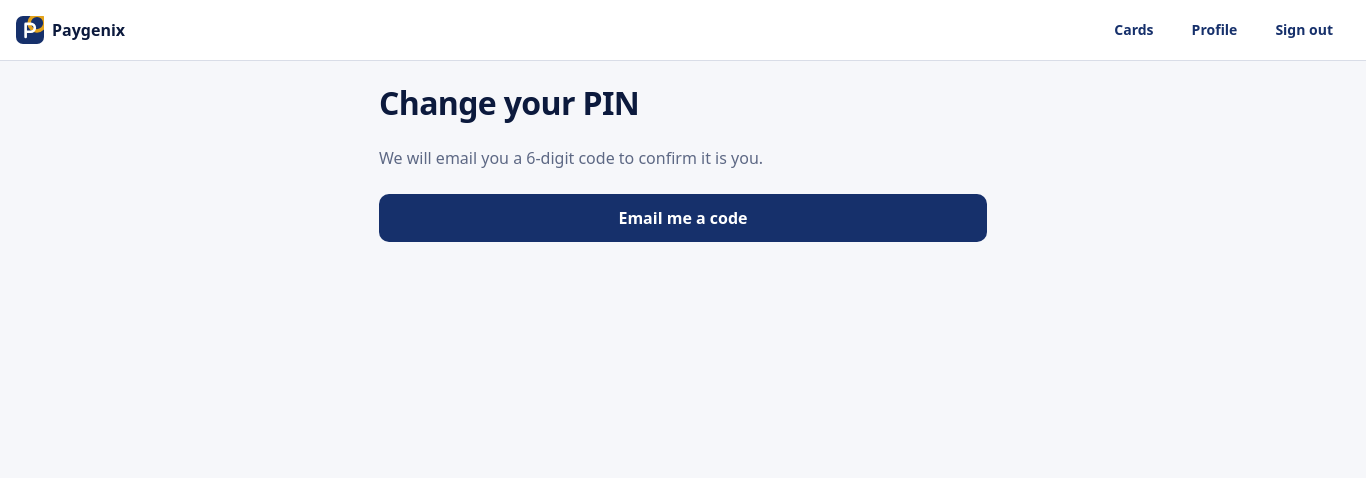
Scenario: a wrong code stays on the code step
This screenshot has width=1366, height=478.
Click the button "Email me a code". click: (683, 218)
box: [379,194,987,242]
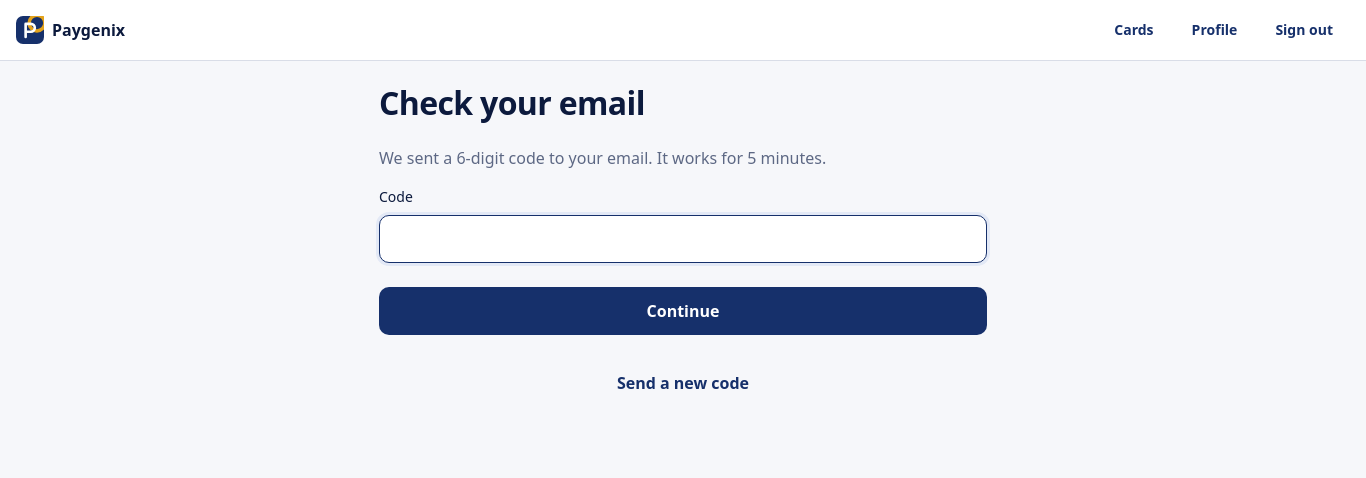
Type "123 456" into the field labelled "Code". click: (683, 239)
box: [380,216,986,262]
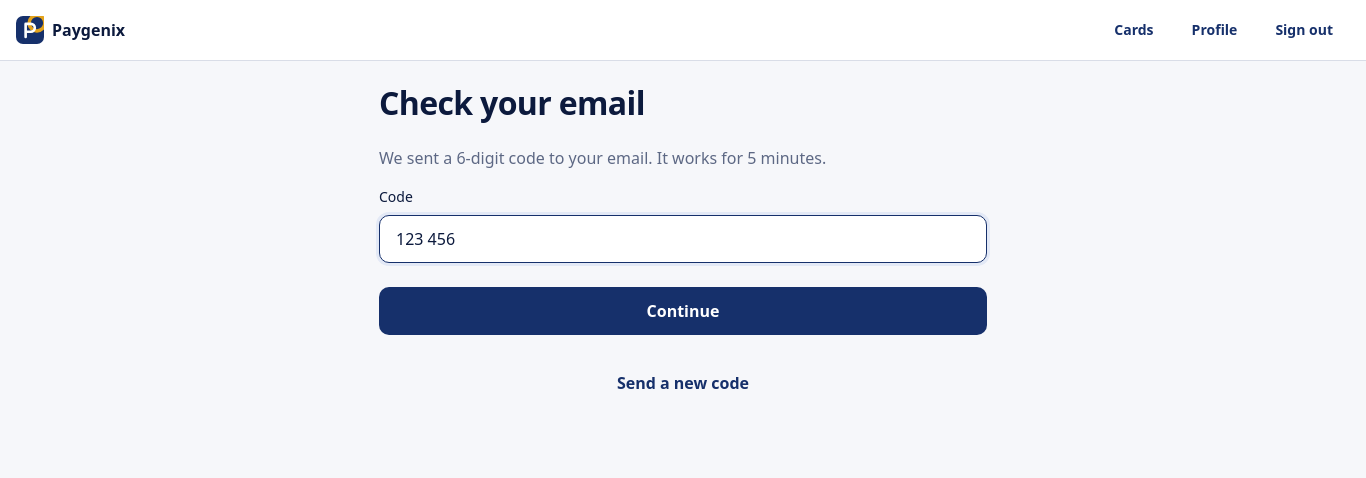
Click the button "Continue". click: (683, 311)
box: [379,287,987,335]
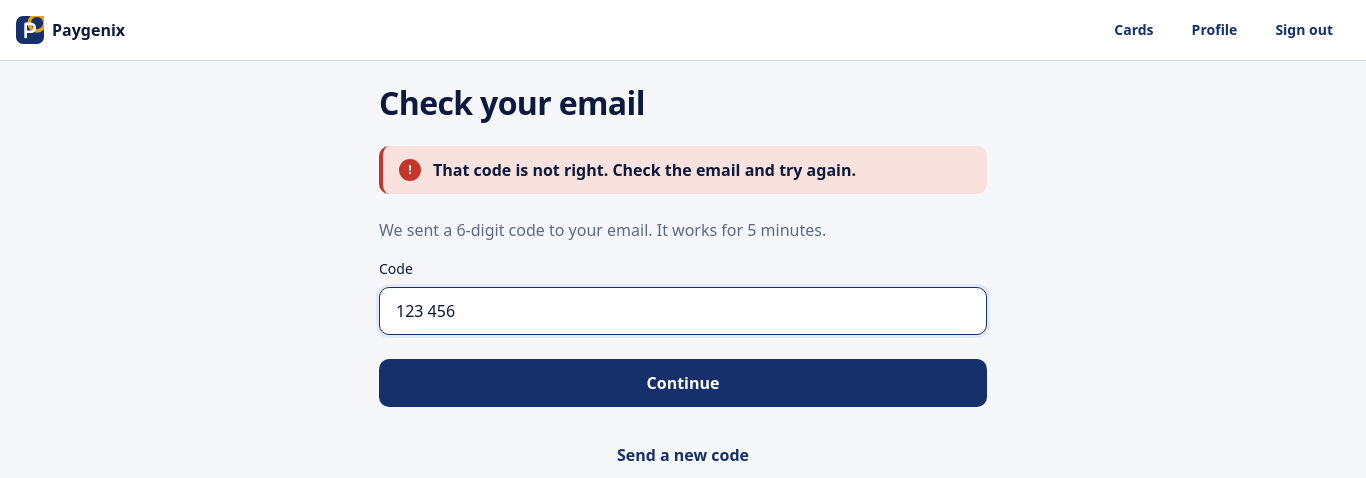
Check: the text "That code is not right. Check the email and try again." is shown, box [433,159,856,181]
